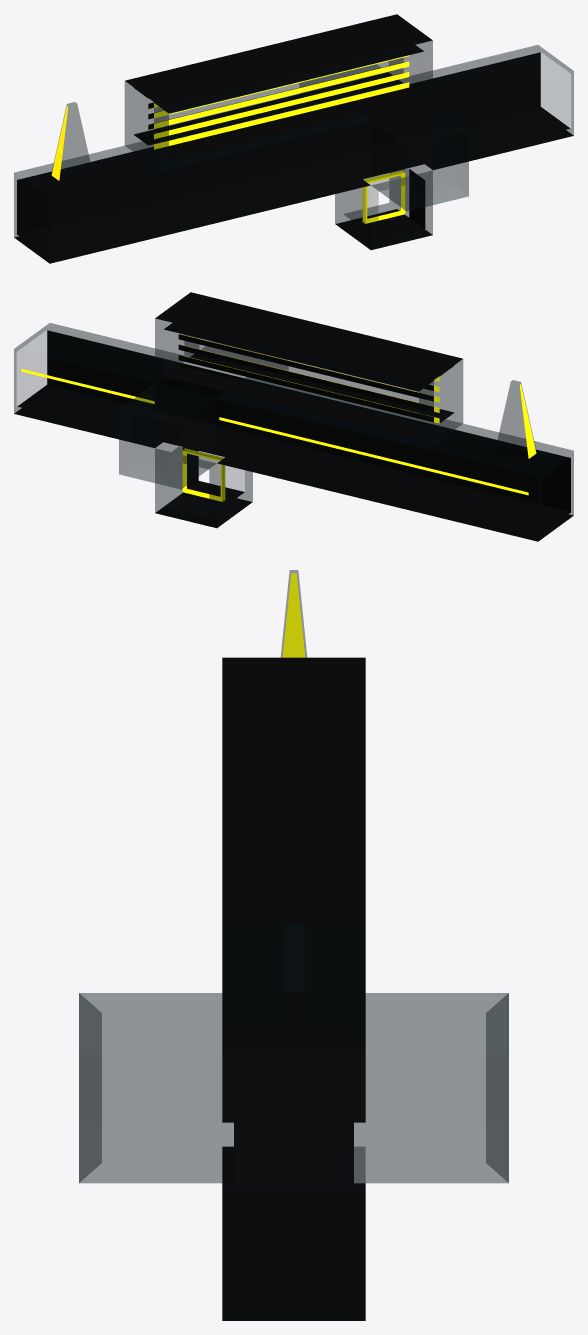
The model's file is plus2.glb.
3 renders of one model, top to bottom at view 1: azimuth 30°, elevation 25°; view 2: azimuth 150°, elevation 25°; view 3: azimuth 270°, elevation 25°, orthographic. The views are drawn at different scales.
Visible parts, largest first — view 1: Cube; view 2: Cube; view 3: Cube.
Boxes of the visible parts, box(x1,y1,x2,y2) form: Cube: box(14, 14, 573, 263); Cube: box(14, 292, 573, 541); Cube: box(79, 570, 508, 1320).
Size of the model in its own units: 16.9 by 6.22 by 6.
